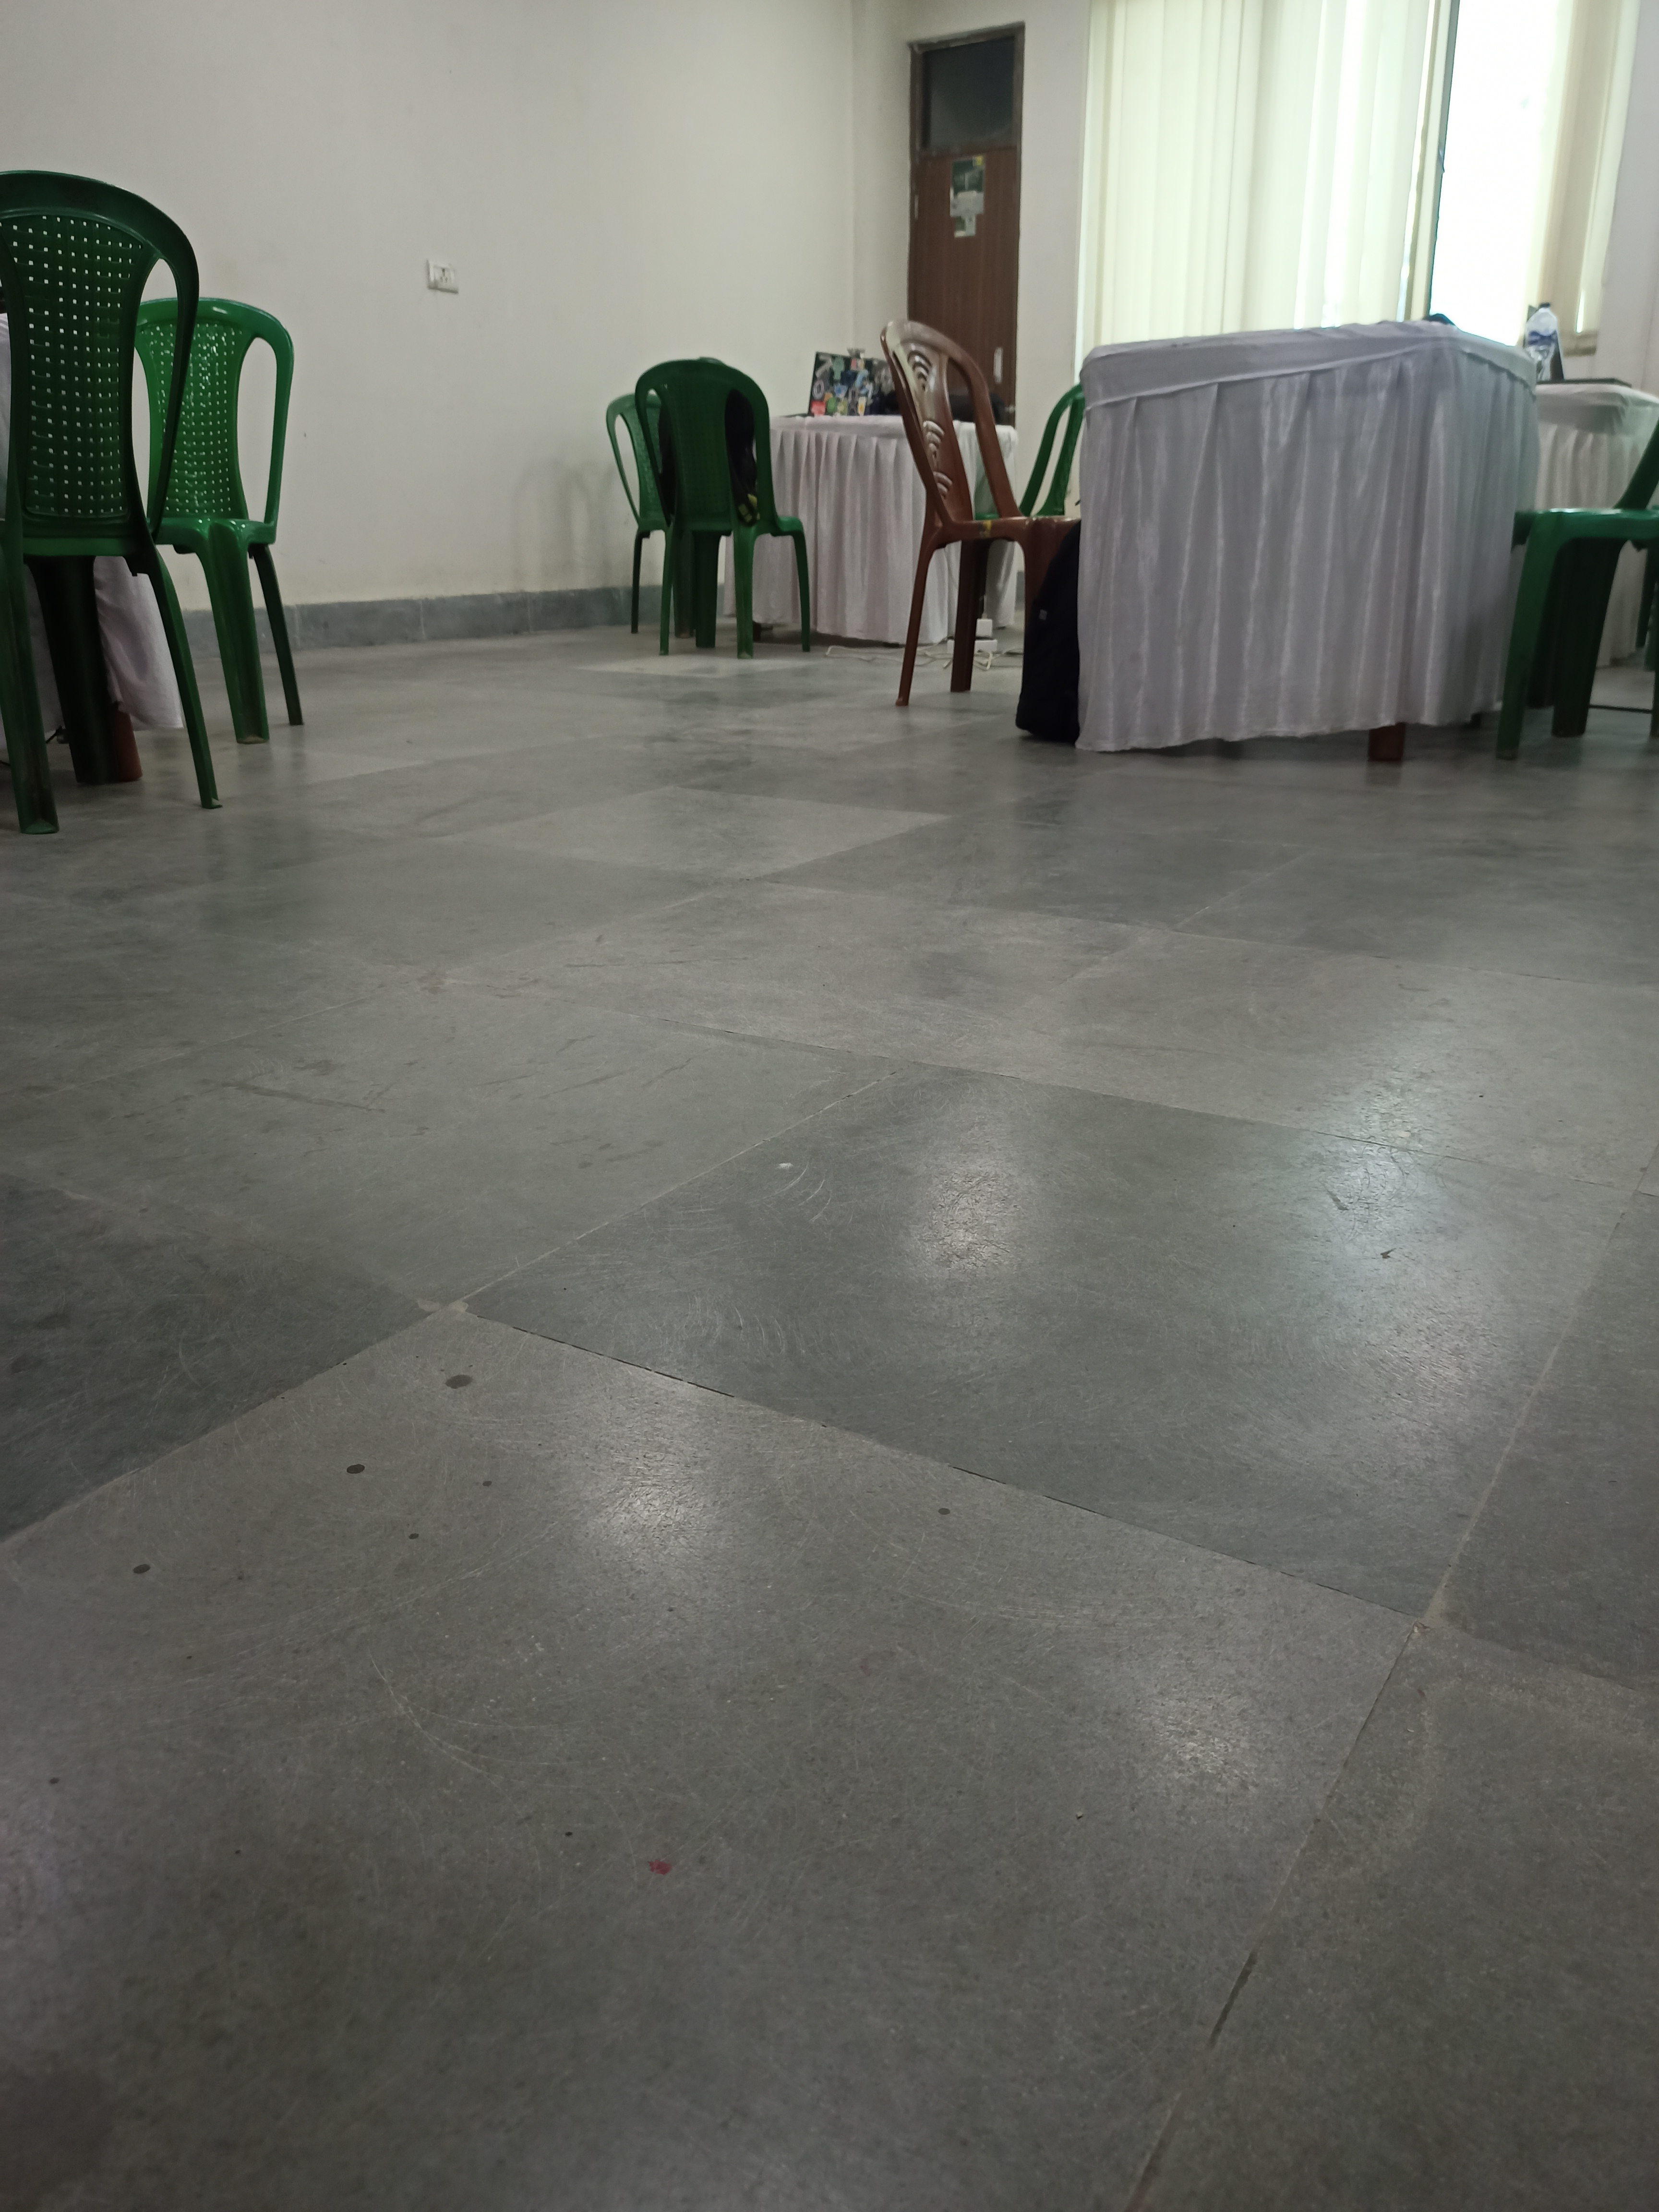Obstacle: (631, 345, 1633, 745), (0, 167, 322, 780)
Path: (146, 796, 1553, 2059)
